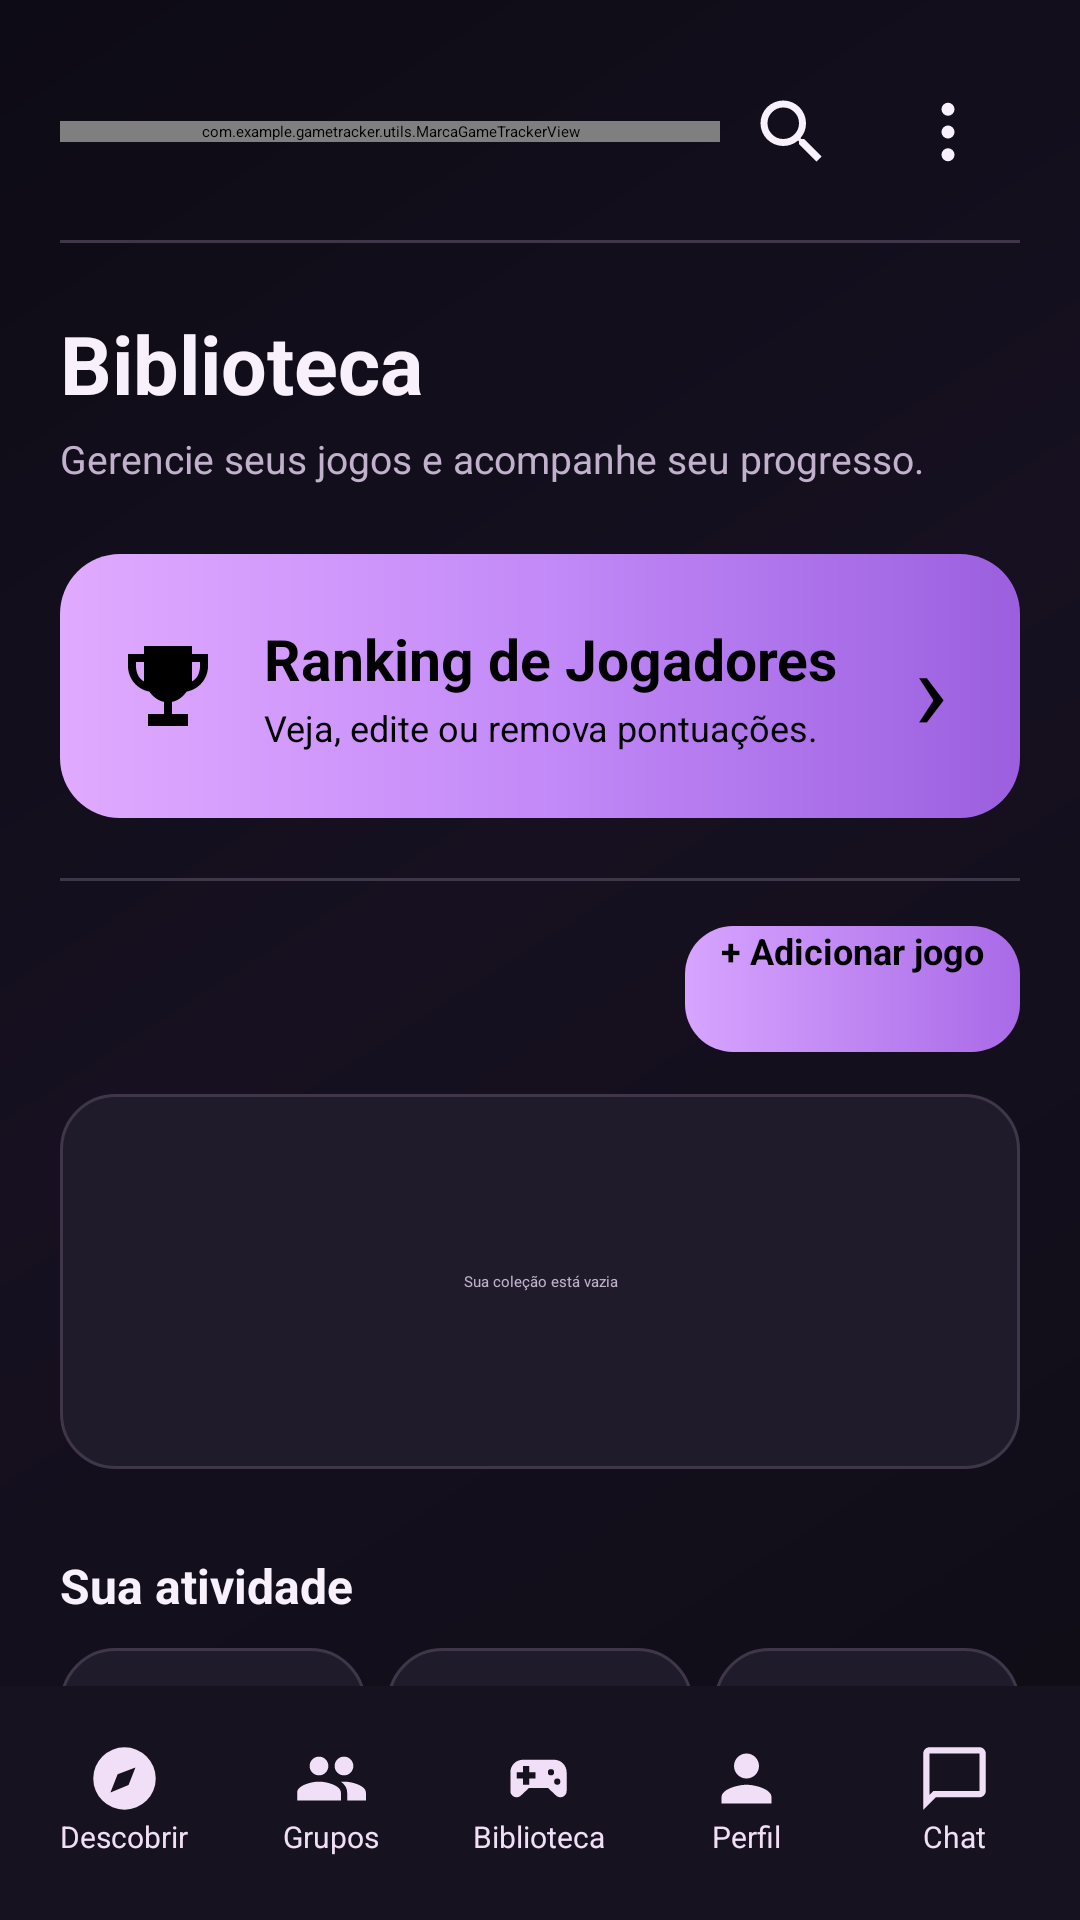

Point at icon controls on the screen. Image size 1080px x 1920px, points as [x,y].
compass: [124,1778]
gamepad: [538,1778]
Pesquisar jogos: [791,131]
trophy: [168,686]
user: [746,1778]
